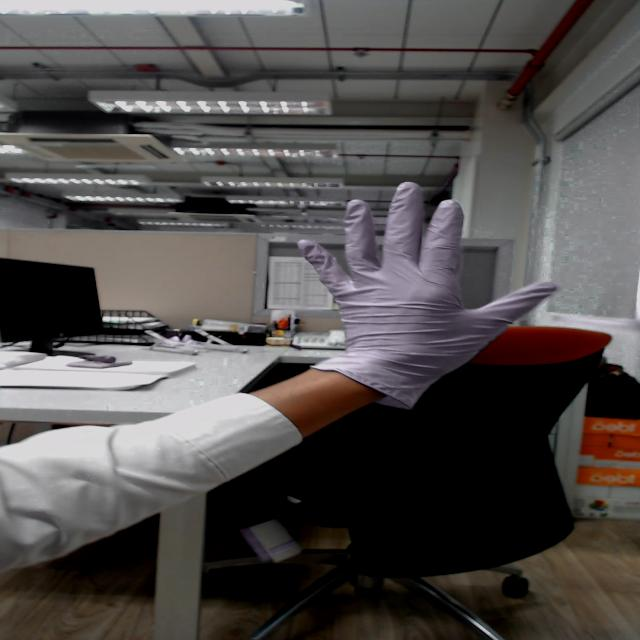glove: (248, 165, 600, 357)
